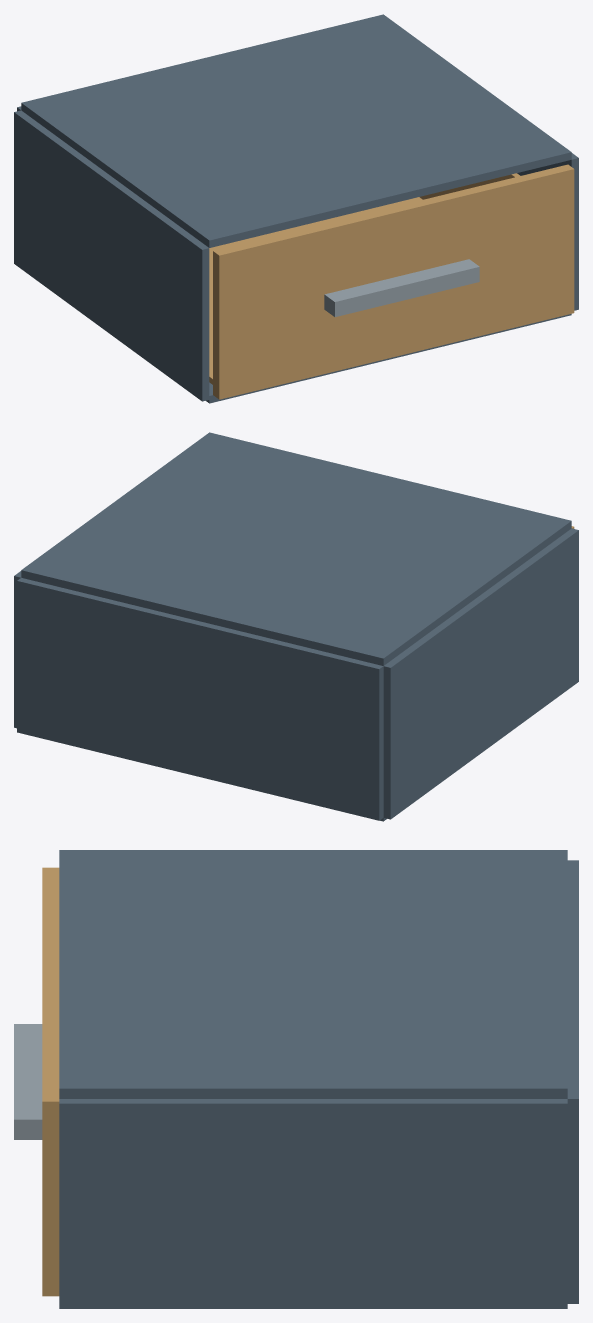
The model's file is demo-tiroir-deux-pieces.glb.
The picture shows the model from 3 angles, top to bottom: view 1: azimuth 30°, elevation 25°; view 2: azimuth 150°, elevation 25°; view 3: azimuth 270°, elevation 25°; orthographic projection. The views are drawn at different scales.
Visible parts, largest first — view 1: Dessus, Panneau_facade, Flanc_gauche, Poignee, Fond_caisse, Flanc_droit, Fond; view 2: Dessus, Arriere, Flanc_gauche, Flanc_droit; view 3: Dessus, Flanc_droit, Panneau_facade, Arriere, Poignee.
Boxes of the visible parts, box(x1,y1,x2,y2) form: Dessus: box(21, 14, 571, 247); Panneau_facade: box(213, 164, 574, 399); Flanc_gauche: box(14, 110, 209, 401); Poignee: box(324, 259, 479, 316); Fond_caisse: box(209, 197, 422, 384); Flanc_droit: box(517, 153, 578, 310); Fond: box(206, 314, 571, 403); Dessus: box(21, 432, 571, 665); Arriere: box(17, 577, 383, 820); Flanc_gauche: box(383, 528, 578, 819); Flanc_droit: box(14, 571, 21, 728); Dessus: box(59, 850, 567, 1098); Flanc_droit: box(59, 1099, 567, 1308); Panneau_facade: box(42, 867, 59, 1296); Arriere: box(567, 860, 578, 1303); Poignee: box(14, 1024, 42, 1139).
Size of the model in its own units: 0.208 by 0.086 by 0.2.
